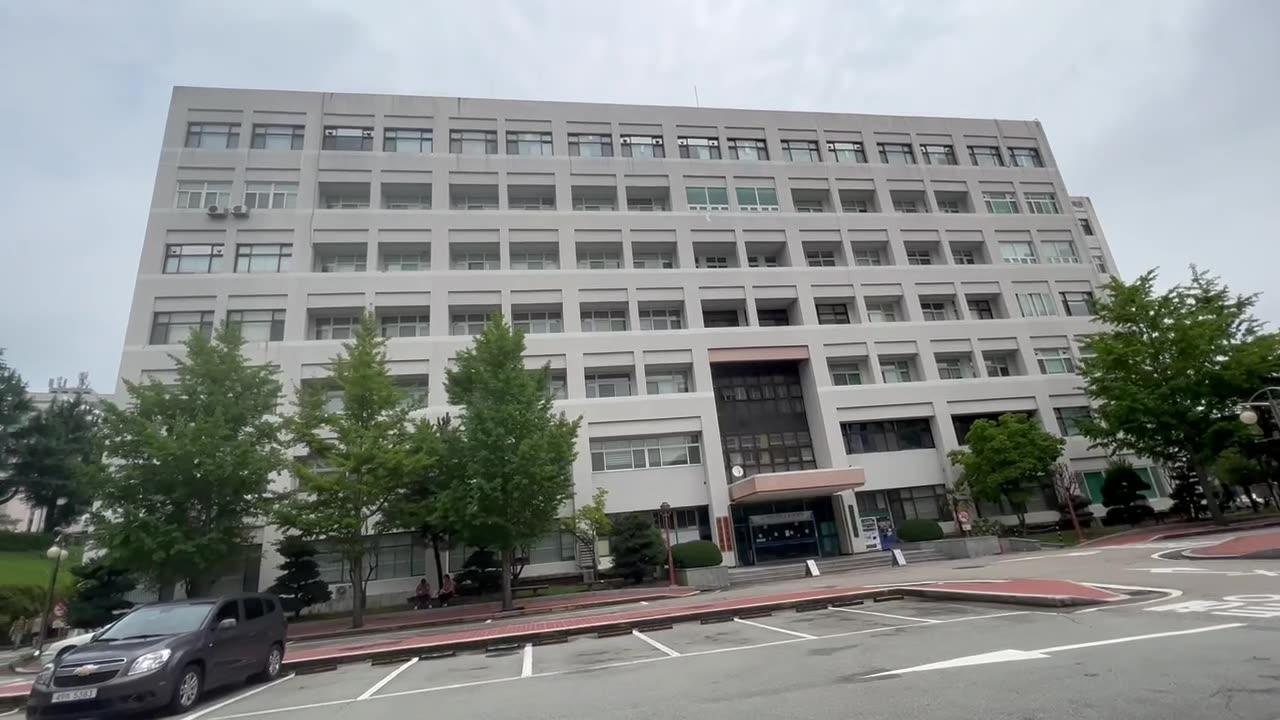building: (586, 133, 936, 617)
